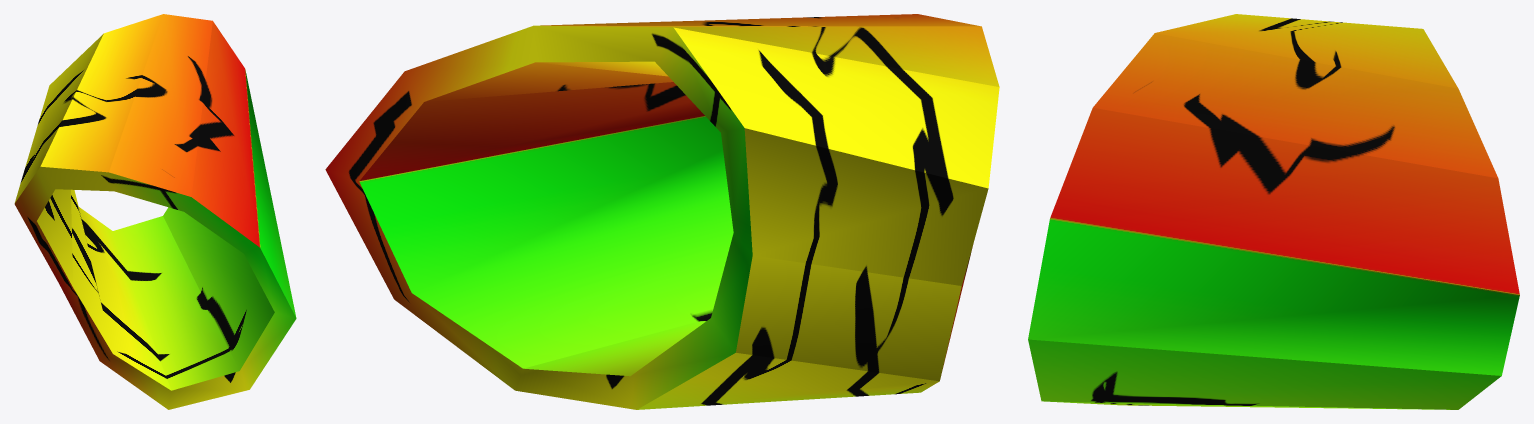
File: bag.obj
3 renders of one model, left to right at view 1: azimuth 30°, elevation 25°; view 2: azimuth 150°, elevation 25°; view 3: azimuth 270°, elevation 25°, orthographic. The views are drawn at different scales.
Visible parts, largest first — view 1: 000_Bend_1_-_baked; view 2: 000_Bend_1_-_baked; view 3: 000_Bend_1_-_baked.
Part boxes in pixels (<box>): 000_Bend_1_-_baked: <box>14,14,296,409</box>; 000_Bend_1_-_baked: <box>325,14,999,409</box>; 000_Bend_1_-_baked: <box>1028,14,1519,409</box>.
Size of the model in its own units: 115 by 101 by 111.
Materials: 1 (1 with a texture image).
